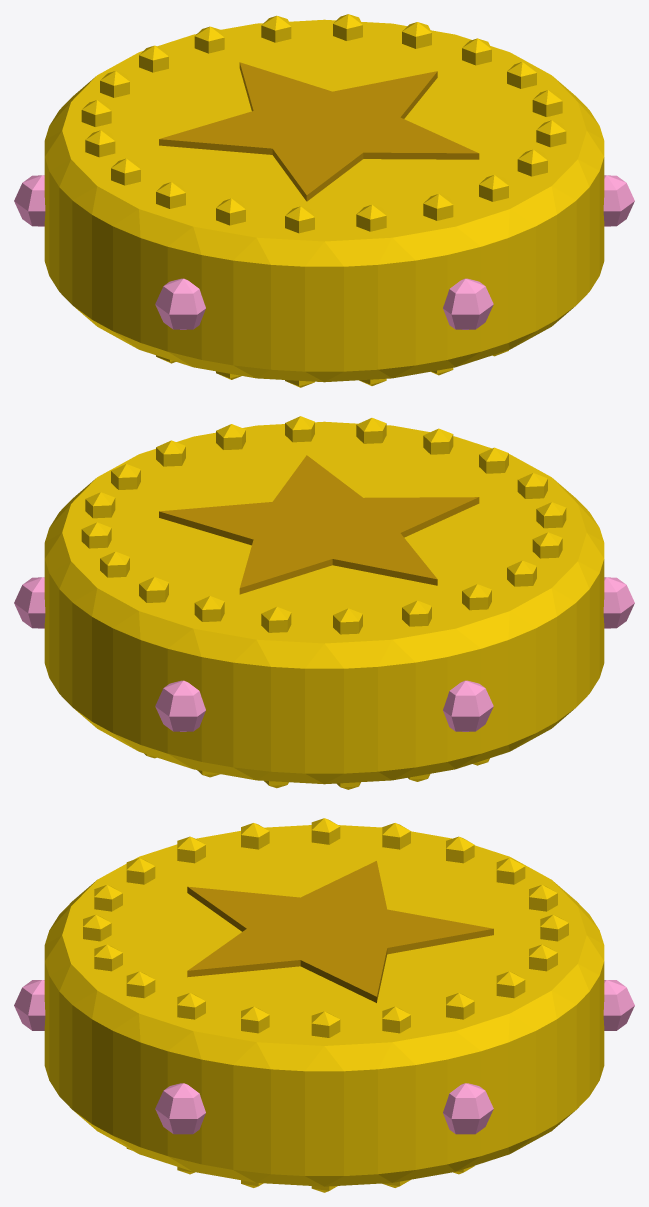
Rendered from CF_MegaCoin.fbx.
3 views of the same model, one above another, from view 1: azimuth 30°, elevation 25°; view 2: azimuth 150°, elevation 25°; view 3: azimuth 270°, elevation 25° (orthographic).
Visible parts, largest first — view 1: CF_MegaCoin_Rim, CF_MegaCoin_Mark, CF_MegaCoin_Gem; view 2: CF_MegaCoin_Rim, CF_MegaCoin_Mark, CF_MegaCoin_Gem; view 3: CF_MegaCoin_Rim, CF_MegaCoin_Mark, CF_MegaCoin_Gem.
Boxes of the visible parts, left/top/right/bottom form: CF_MegaCoin_Rim: left=44, top=14, right=604, bottom=387; CF_MegaCoin_Mark: left=159, top=62, right=479, bottom=201; CF_MegaCoin_Gem: left=14, top=175, right=634, bottom=329; CF_MegaCoin_Rim: left=44, top=416, right=604, bottom=789; CF_MegaCoin_Mark: left=159, top=455, right=479, bottom=594; CF_MegaCoin_Gem: left=14, top=577, right=634, bottom=731; CF_MegaCoin_Rim: left=44, top=818, right=604, bottom=1192; CF_MegaCoin_Mark: left=187, top=861, right=493, bottom=1002; CF_MegaCoin_Gem: left=14, top=980, right=634, bottom=1134.
Bounding box in the file's own units: 3.96 × 1.42 × 4.4.
